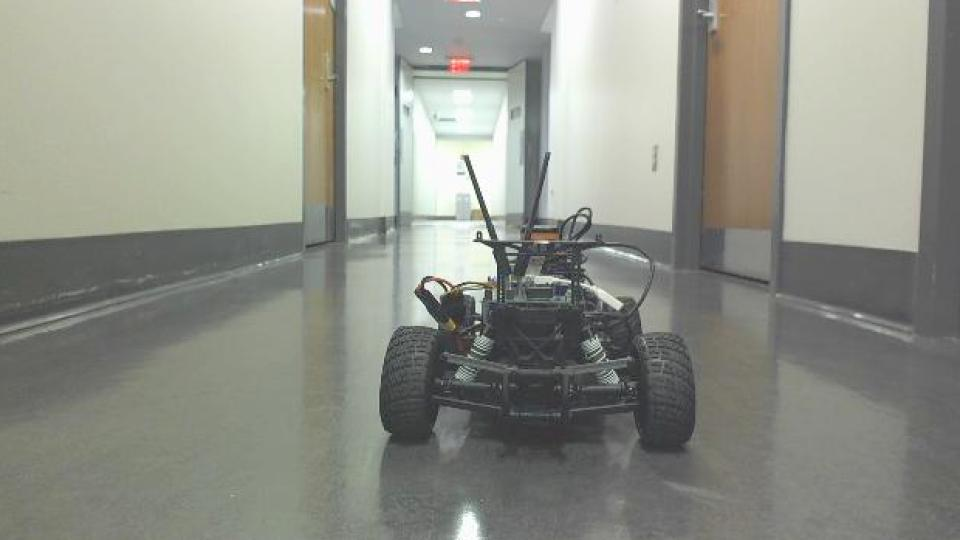car: (375, 149, 700, 452)
